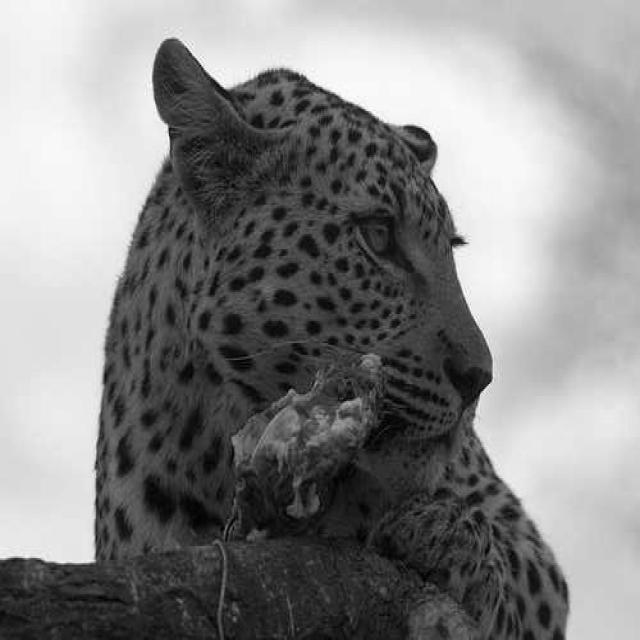Leopard: (95, 14, 511, 586)
